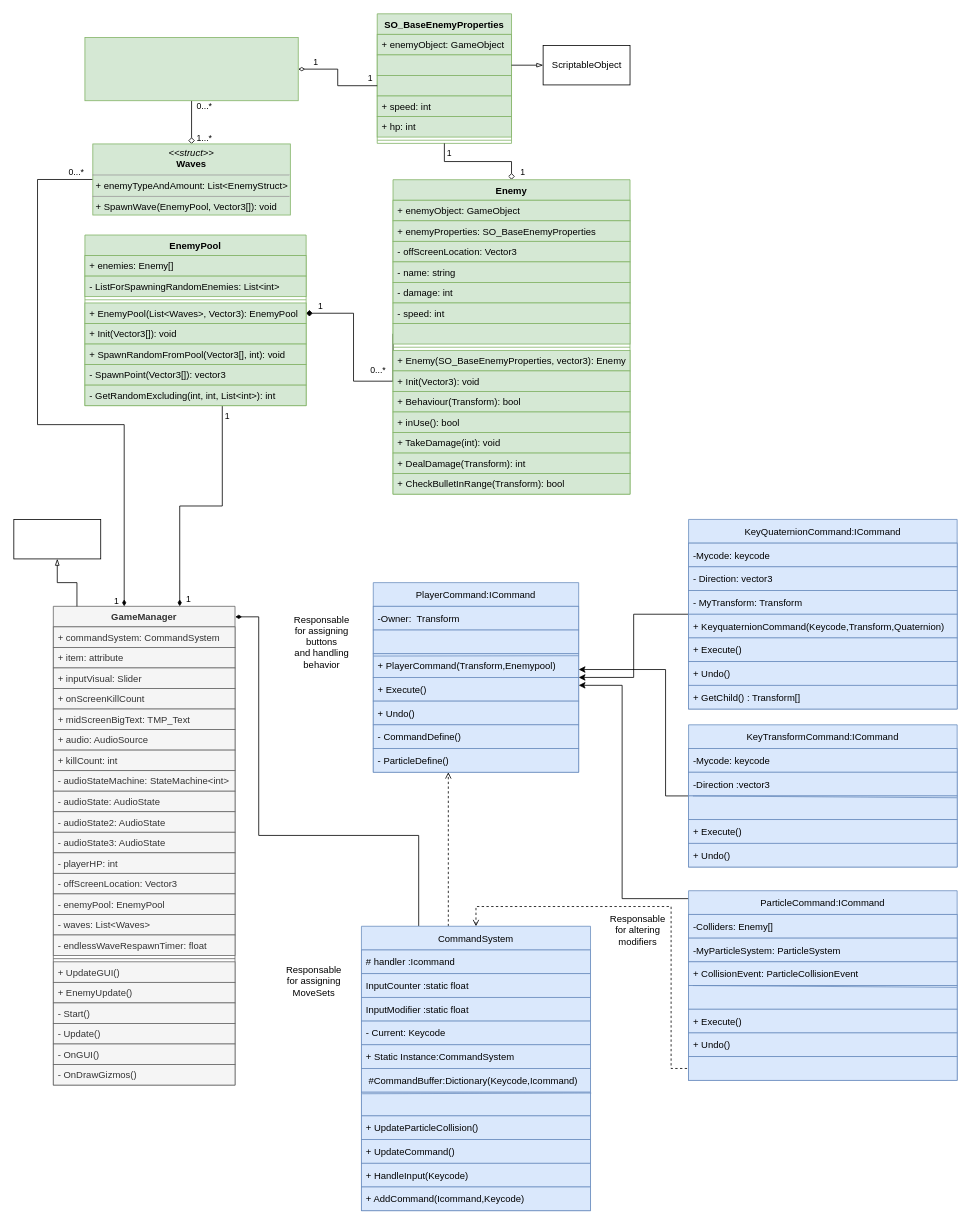
The diagram is 972 pixels wide and 1225 high, and some of its shapes have lost their labels. Each missing label, with the centre of its shape:
"+ CommandSystem()" belongs at point (476, 1103).
"+ damage: int" belongs at point (444, 85).
"+ enemyName: string" belongs at point (444, 64).
"+ KeyTransformCommand(Keycode,Transform,Quaternion)" belongs at point (822, 807).
"+ ParticleCommand(Keycode,Transform,Quaternion)" belongs at point (822, 997).
"- hp: int" belongs at point (511, 333).
"- OnParticleCollision()" belongs at point (822, 1068).
"-udders :transform[]" belongs at point (475, 641).
"<<struct>> EnemyStruct + enemyProperties: SO_BaseEnemyProperties + amount: int" belongs at point (191, 69).
"Monobehaviour" belongs at point (57, 539).
